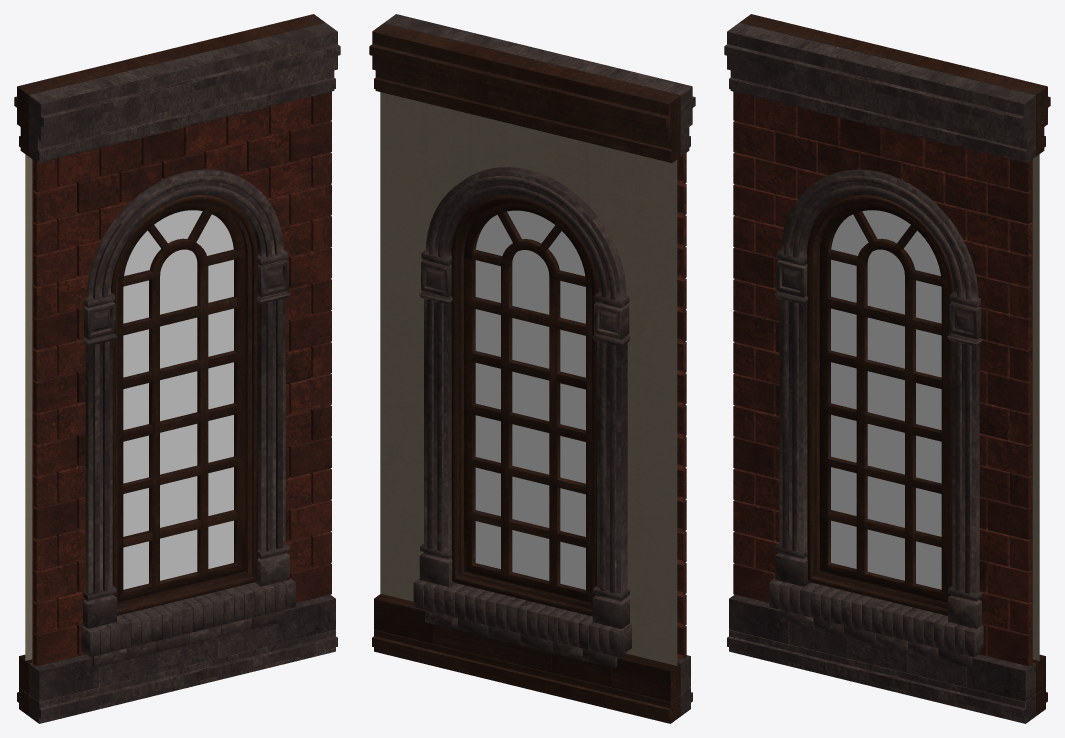
The model's file is SK3 WINDOW 1.fbx.
3 renders of one model, left to right at view 1: azimuth 30°, elevation 25°; view 2: azimuth 150°, elevation 25°; view 3: azimuth 330°, elevation 25°, orthographic.
Parts seen in each view (by area): view 1: SK3 WINDOW 1; view 2: SK3 WINDOW 1; view 3: SK3 WINDOW 1.
Boxes of the visible parts, <box> form: SK3 WINDOW 1: <box>14,14,340,723</box>; SK3 WINDOW 1: <box>369,14,695,723</box>; SK3 WINDOW 1: <box>724,14,1050,723</box>.
Size of the model in its own units: 200 by 400 by 37.1.
